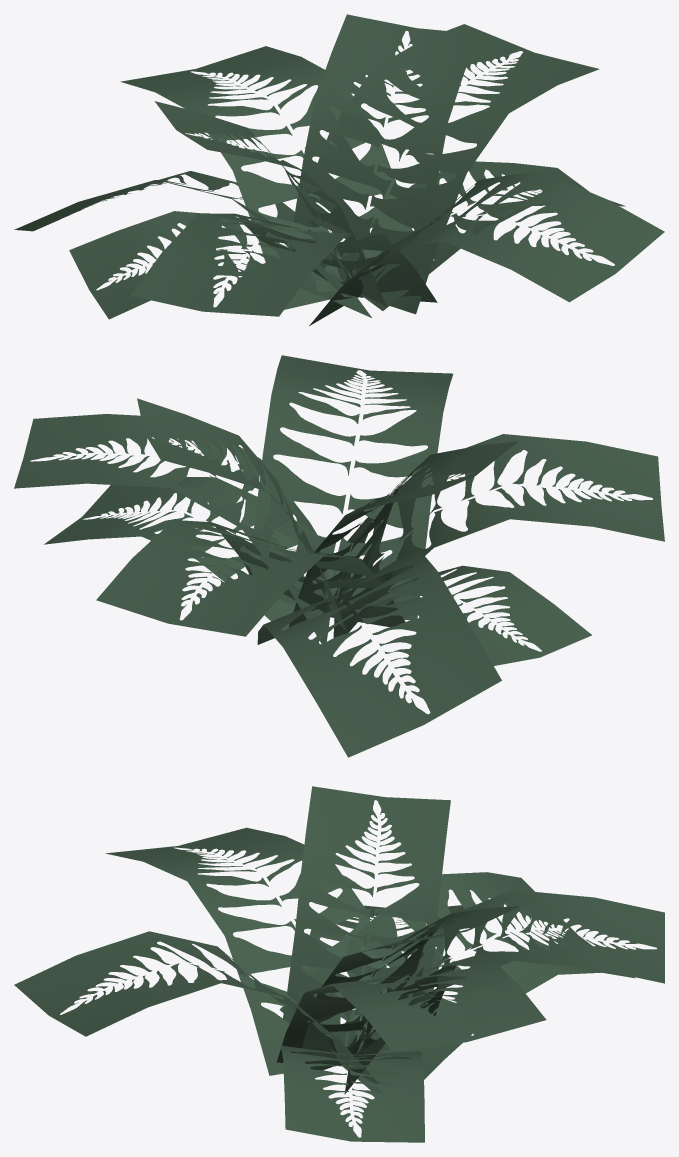
File: game2-fern.fbx
3 renders of one model, top to bottom at view 1: azimuth 30°, elevation 25°; view 2: azimuth 150°, elevation 25°; view 3: azimuth 270°, elevation 25°, orthographic. The views are drawn at different scales.
Visible parts, largest first — view 1: fern; view 2: fern; view 3: fern.
Boxes of the visible parts, x1,y1,x2,y2 form: fern: (14,14,664,325); fern: (14,355,664,757); fern: (14,786,664,1142).
Bounding box in the file's own units: 1.69 × 0.6594 × 1.76.
